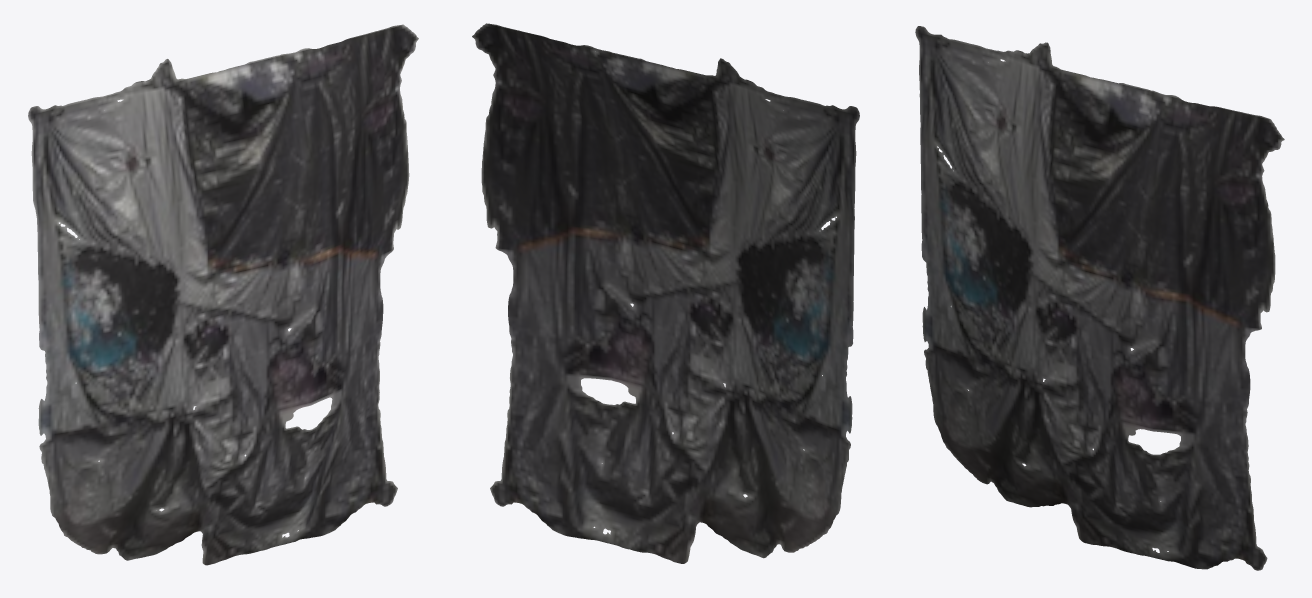
Rendered from garbage_bag_tarp.FBX.
3 renders of one model, left to right at view 1: azimuth 30°, elevation 25°; view 2: azimuth 150°, elevation 25°; view 3: azimuth 330°, elevation 25°, orthographic. The views are drawn at different scales.
Parts seen in each view (by area): view 1: garbage_bag_tarp; view 2: garbage_bag_tarp; view 3: garbage_bag_tarp.
Boxes of the visible parts, x1,y1,x2,y2 form: garbage_bag_tarp: [28, 24, 418, 565]; garbage_bag_tarp: [472, 23, 859, 563]; garbage_bag_tarp: [915, 26, 1284, 570].
Size of the model in its own units: 63.35 by 76.7 by 4.52.
